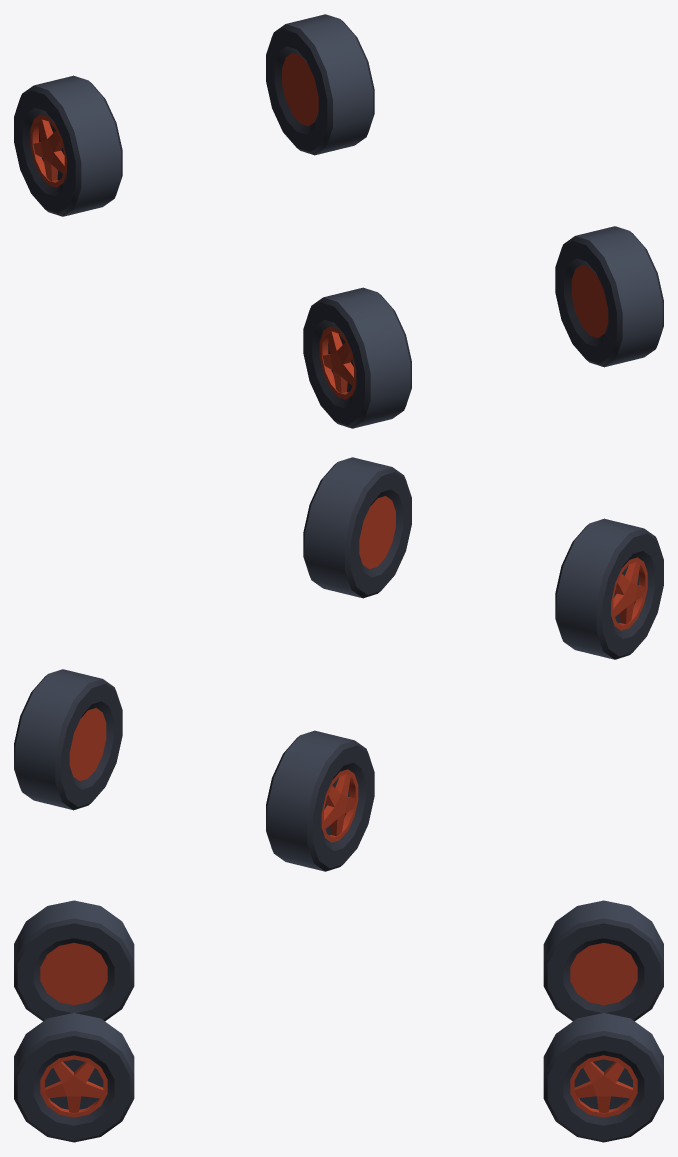
Rendered from WheelsComplex.fbx.
3 renders of one model, top to bottom at view 1: azimuth 30°, elevation 25°; view 2: azimuth 150°, elevation 25°; view 3: azimuth 270°, elevation 25°, orthographic. The views are drawn at different scales.
Visible parts, largest first — view 1: WheelComplexFrontRight, WheelComplexRearLeft, WheelComplexFrontLeft, WheelComplexRearRight; view 2: WheelComplexFrontLeft, WheelComplexRearRight, WheelComplexFrontRight, WheelComplexRearLeft; view 3: WheelComplexFrontLeft, WheelComplexRearLeft, WheelComplexFrontRight, WheelComplexRearRight.
Boxes of the visible parts, box(x1,y1,x2,y2) form: WheelComplexFrontRight: box(303, 287, 411, 428); WheelComplexRearLeft: box(266, 14, 374, 155); WheelComplexFrontLeft: box(555, 226, 663, 367); WheelComplexRearRight: box(14, 75, 122, 216); WheelComplexFrontLeft: box(303, 457, 411, 598); WheelComplexRearRight: box(266, 730, 374, 871); WheelComplexFrontRight: box(555, 518, 663, 659); WheelComplexRearLeft: box(14, 669, 122, 810); WheelComplexFrontLeft: box(14, 1013, 134, 1142); WheelComplexRearLeft: box(543, 1013, 663, 1142); WheelComplexFrontRight: box(14, 900, 134, 1021); WheelComplexRearRight: box(543, 900, 663, 1021).
Bounding box in the file's own units: 135 × 52.77 × 278.
